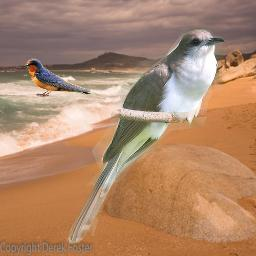Cuckoo: (66, 28, 225, 244)
Swallow: (24, 58, 91, 99)
